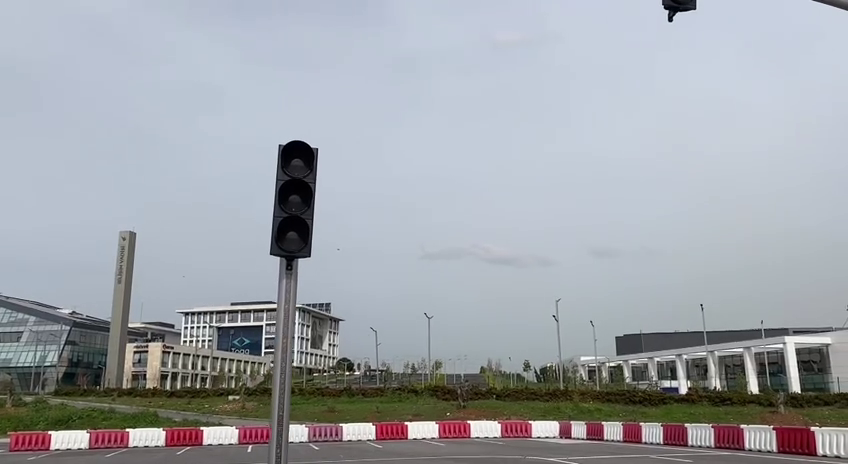trafficLight: (266, 138, 323, 265)
